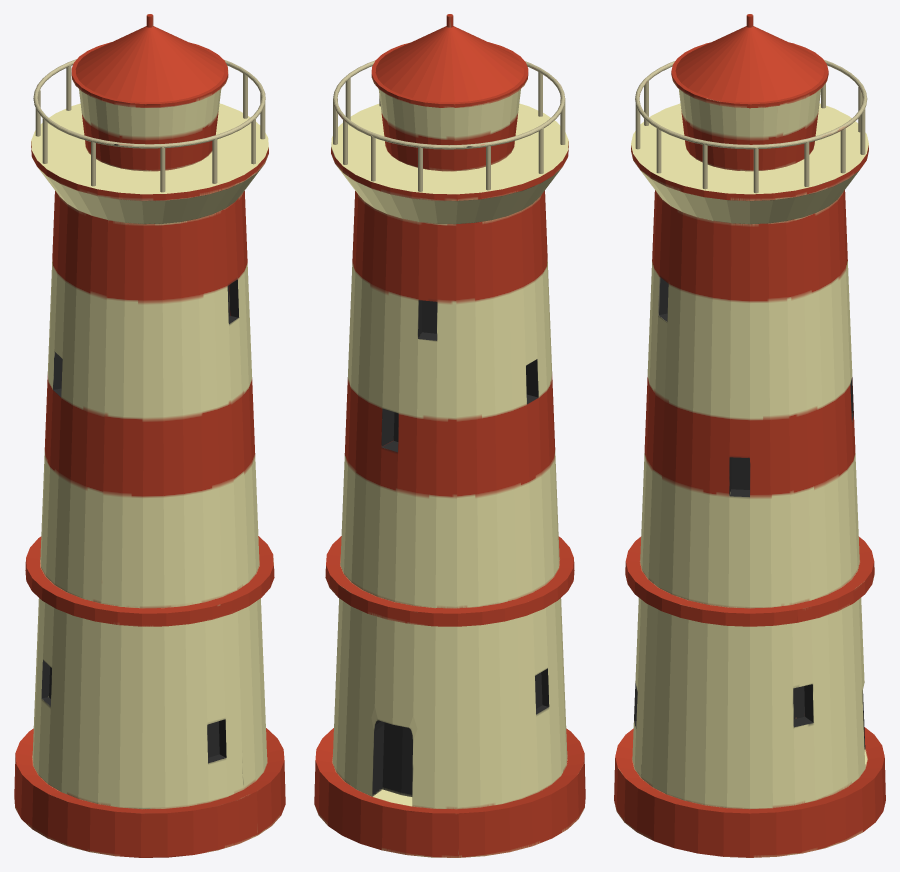
The model's file is lighthouse.fbx.
3 renders of one model, left to right at view 1: azimuth 30°, elevation 25°; view 2: azimuth 150°, elevation 25°; view 3: azimuth 270°, elevation 25°, orthographic.
Parts seen in each view (by area): view 1: Cylinder; view 2: Cylinder; view 3: Cylinder.
Part boxes in pixels (box(x1,y1,x2,y2)): Cylinder: box(14, 14, 285, 857); Cylinder: box(314, 14, 585, 857); Cylinder: box(614, 14, 885, 857).
Size of the model in its own units: 673 by 673 by 2144.
